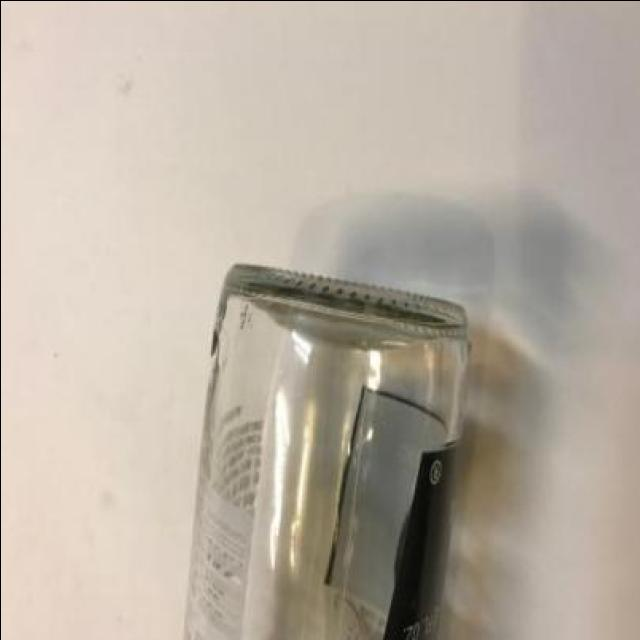kaca: (182, 261, 466, 640)
